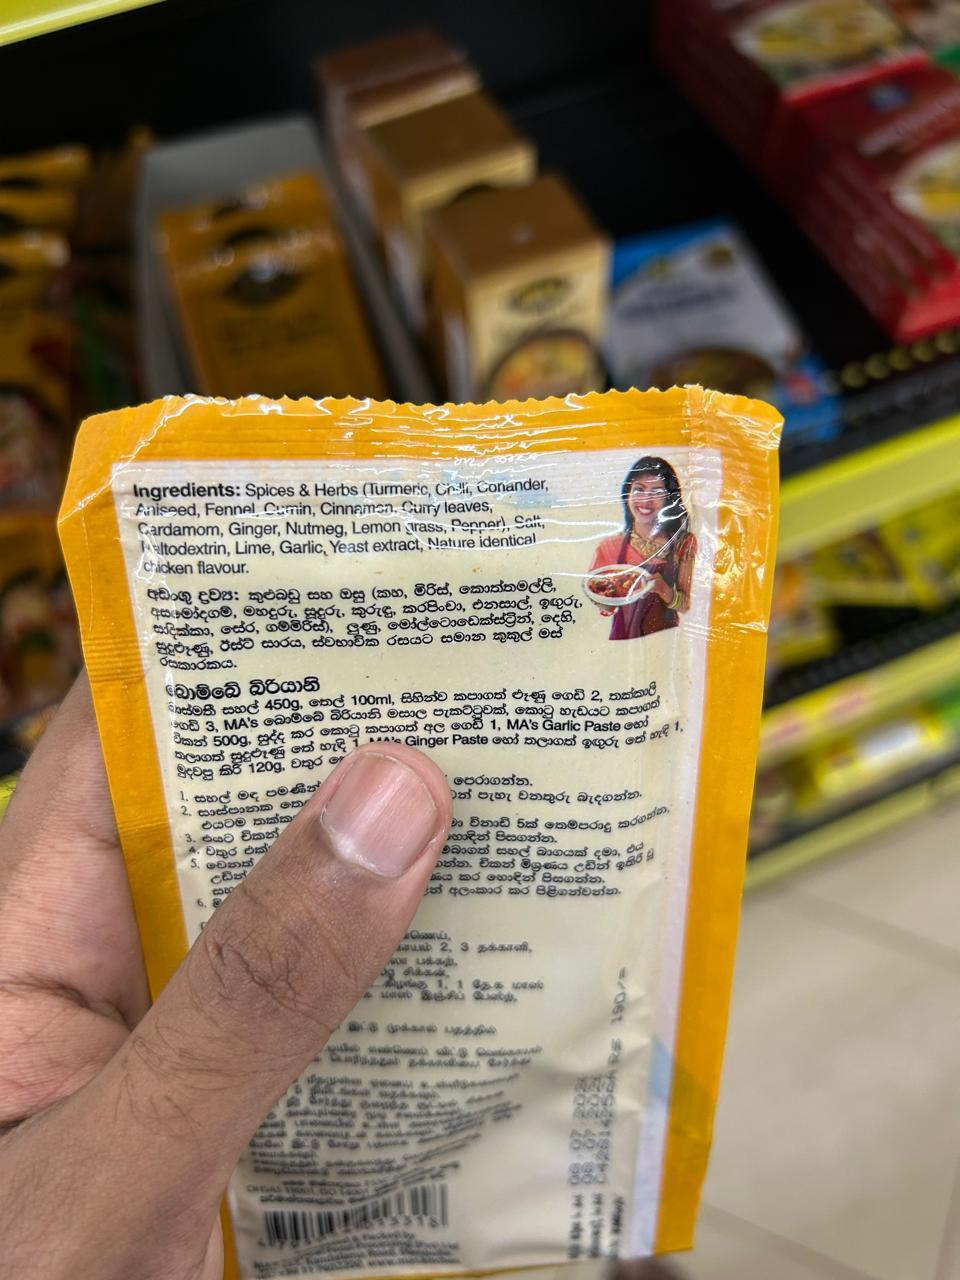ingredients: (121, 468, 598, 588)
